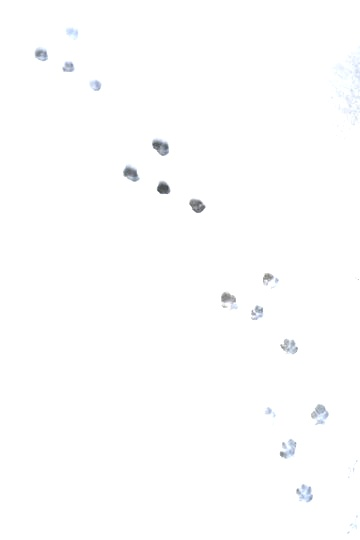rabbit: (55, 268, 146, 364), (148, 135, 243, 222), (252, 22, 329, 106)
